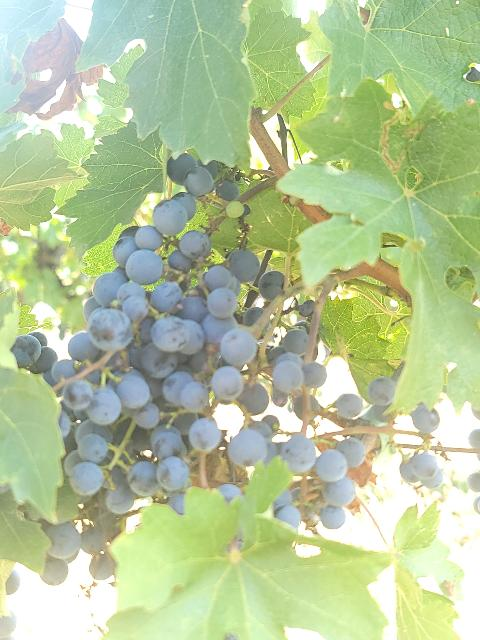grapes: (11, 155, 330, 580), (279, 431, 362, 522)
